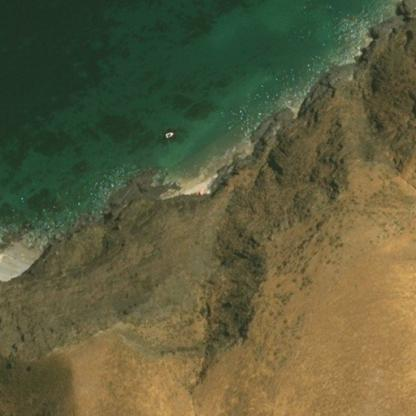ship: (159, 126, 177, 140)
